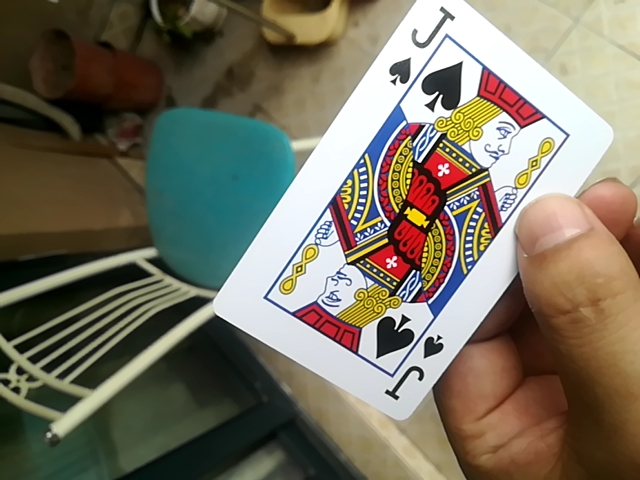ht j: (186, 10, 630, 428)
